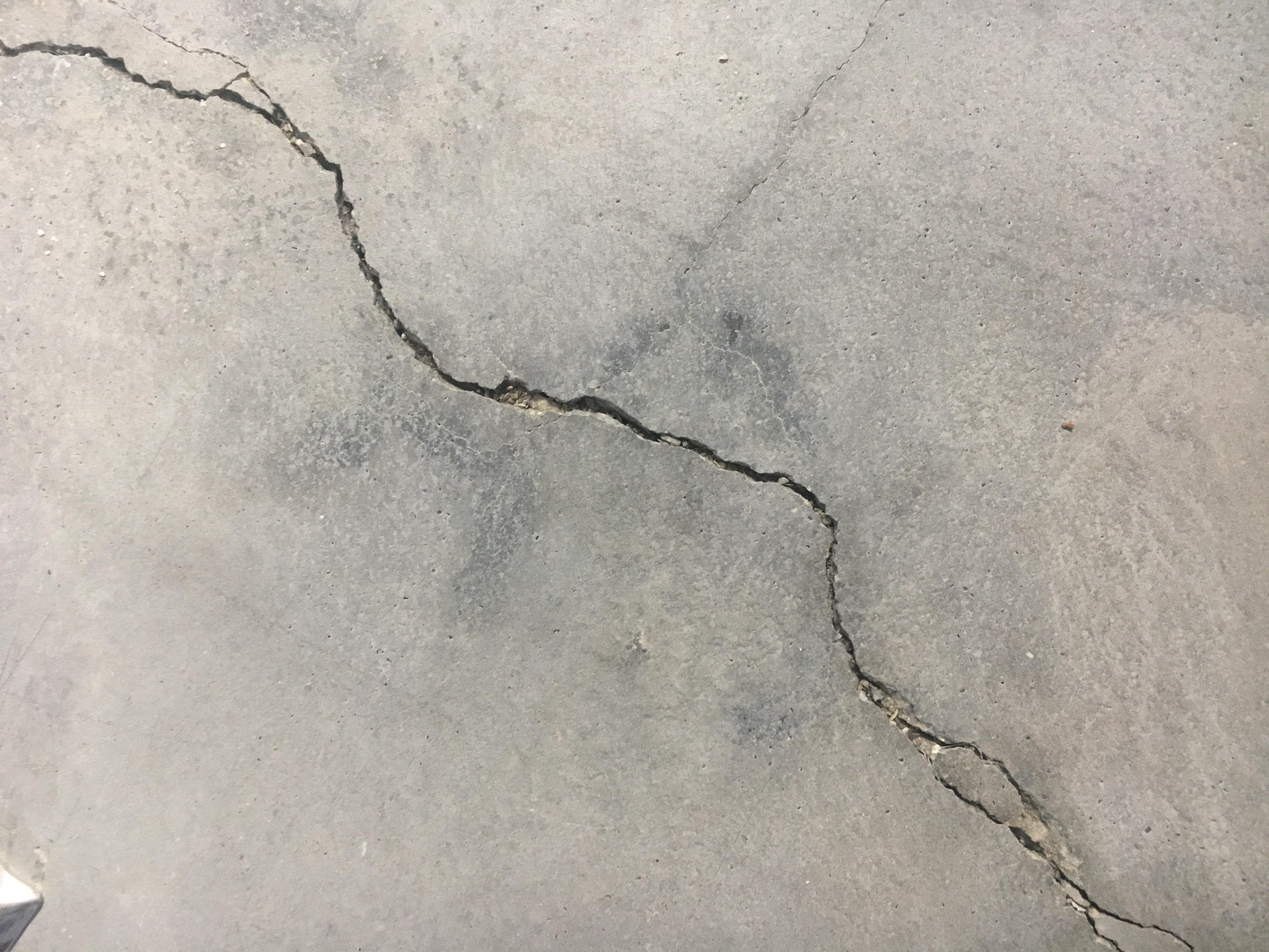Diagonal Crack: (5, 2, 1193, 947)
